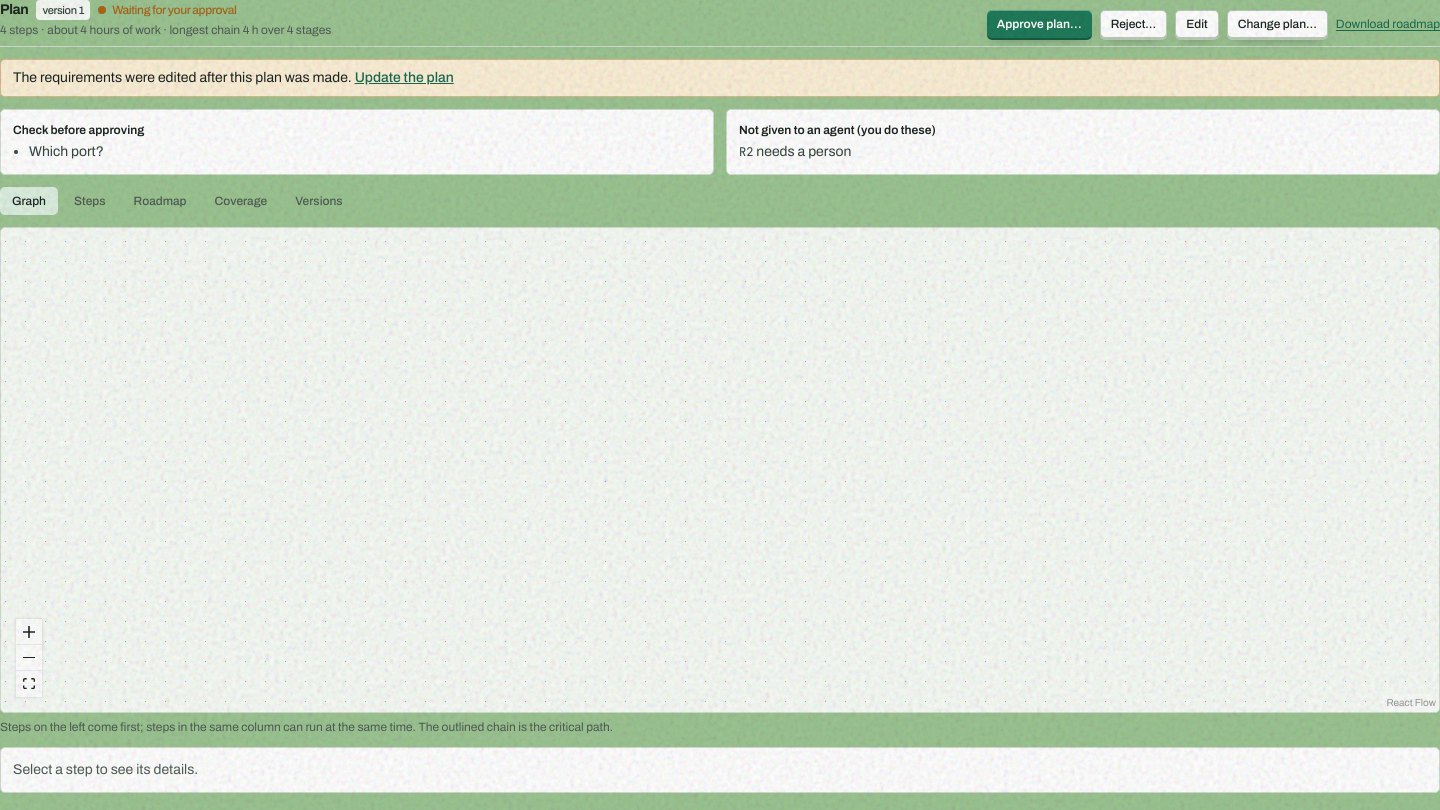
it: PlanPanel › needs a reason to reject
The width and height of the screenshot is (1440, 810).
Expected: the text "Waiting for your approval" is shown, left=98, top=2, right=237, bottom=18
Click the button "Reject…": x=1133, y=24 left=1100, top=10, right=1167, bottom=38
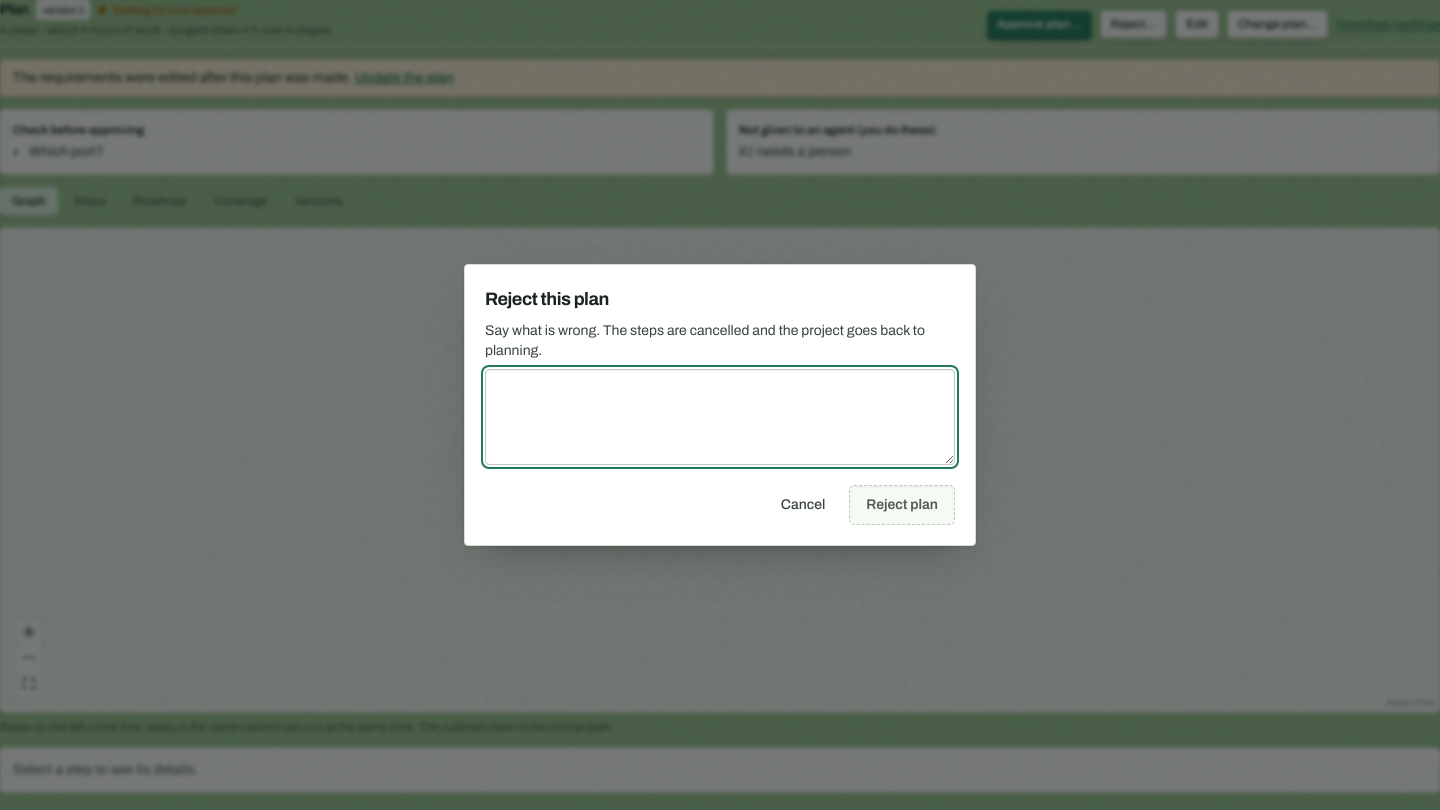
Now the button "Reject plan" is disabled, box left=849, top=485, right=955, bottom=525
In the text box labelled "Say what is wrong": x=720, y=417 left=485, top=369, right=955, bottom=465, type "too many steps"
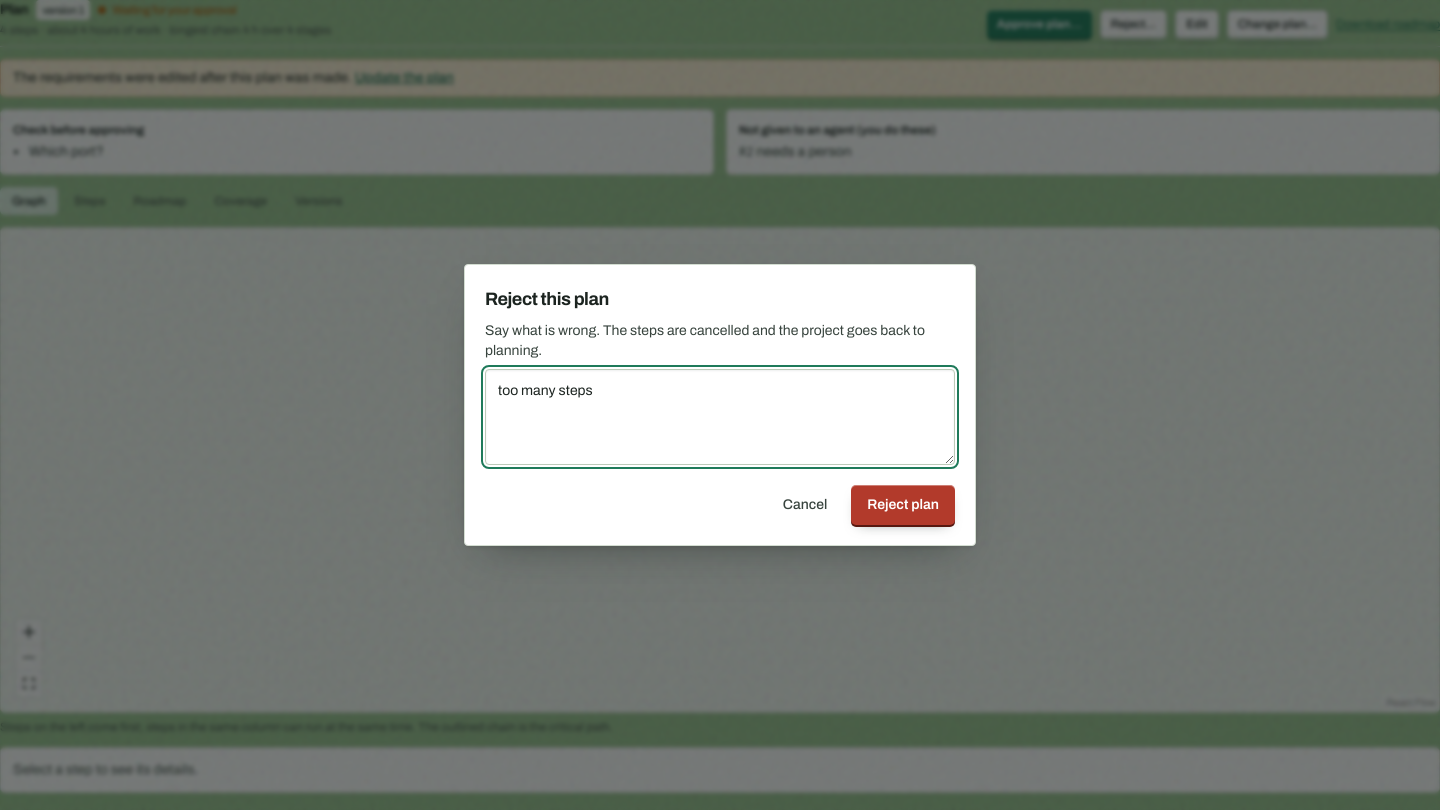
Now the button "Reject plan" is enabled, box left=851, top=485, right=955, bottom=525
